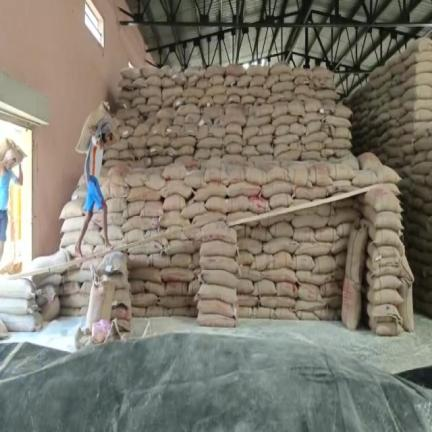Zone-Counting: (75, 102, 114, 255), (0, 138, 24, 260)
